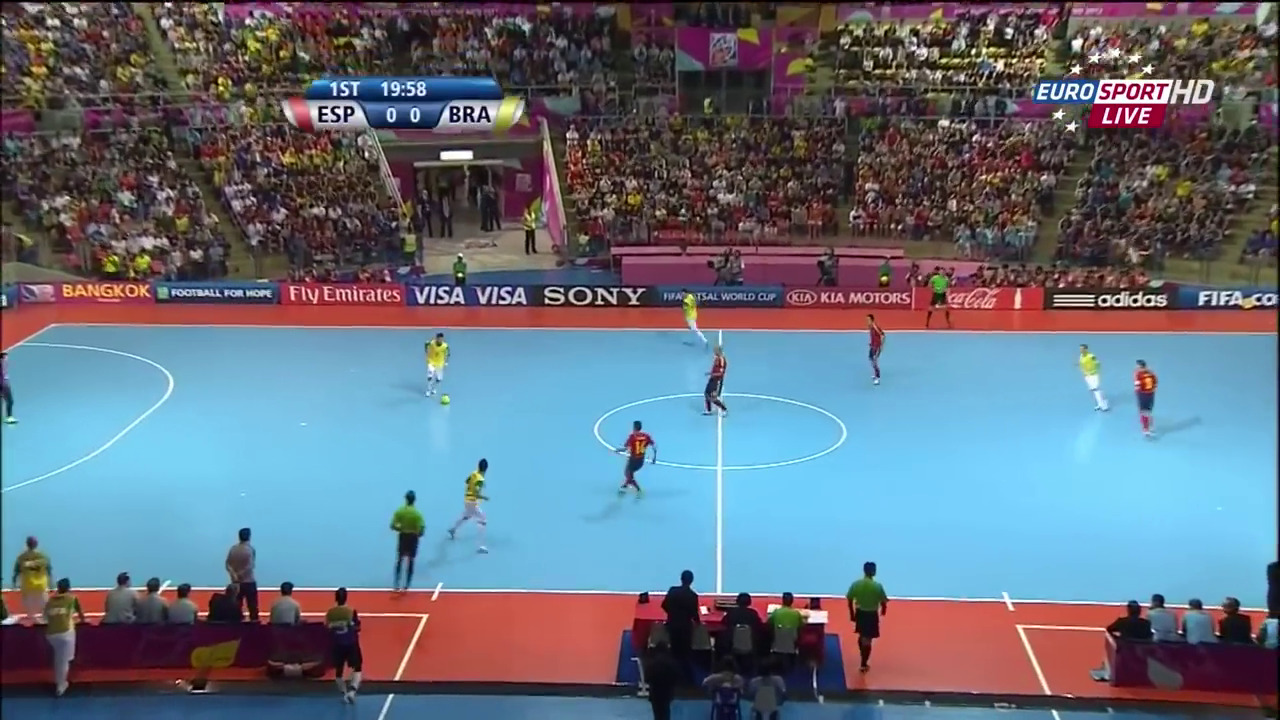ball: (438, 396, 450, 406)
person: (443, 453, 491, 551), (613, 415, 657, 501), (1068, 338, 1109, 413), (413, 327, 453, 393), (1127, 358, 1160, 434), (700, 345, 730, 420), (674, 289, 706, 349), (860, 317, 885, 379), (1, 352, 16, 431)
